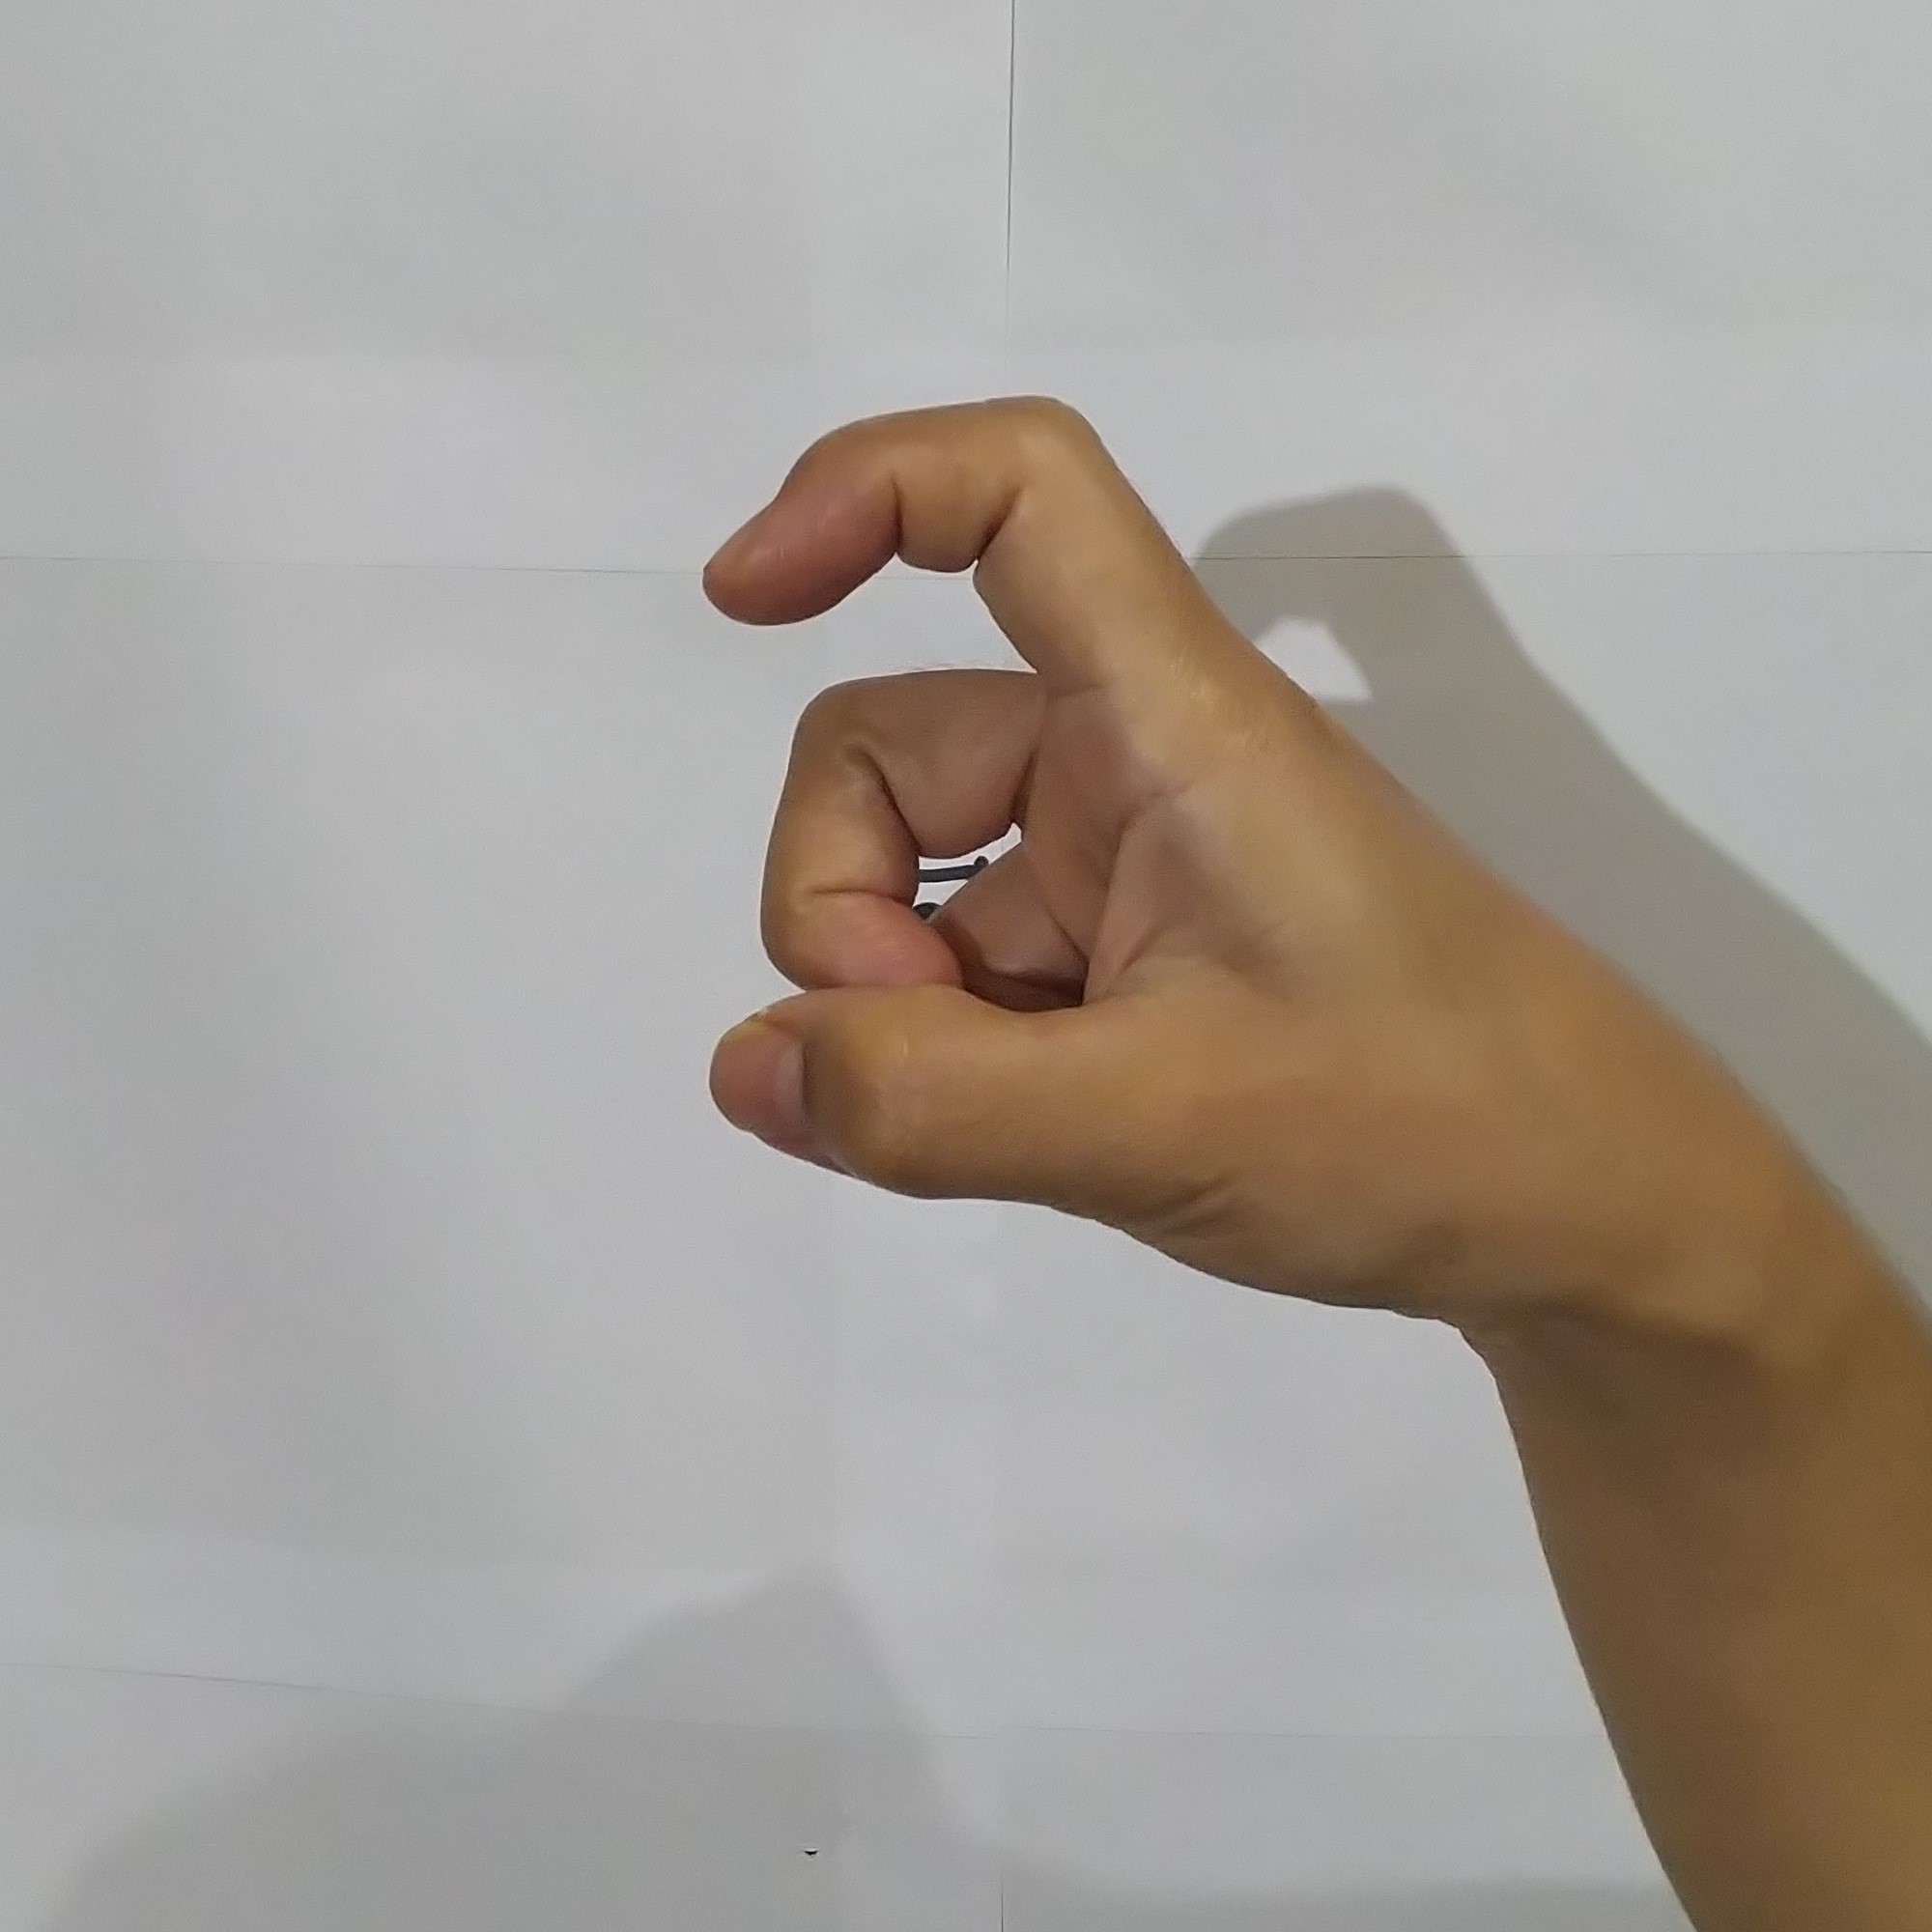X: (656, 375, 1739, 1329)
